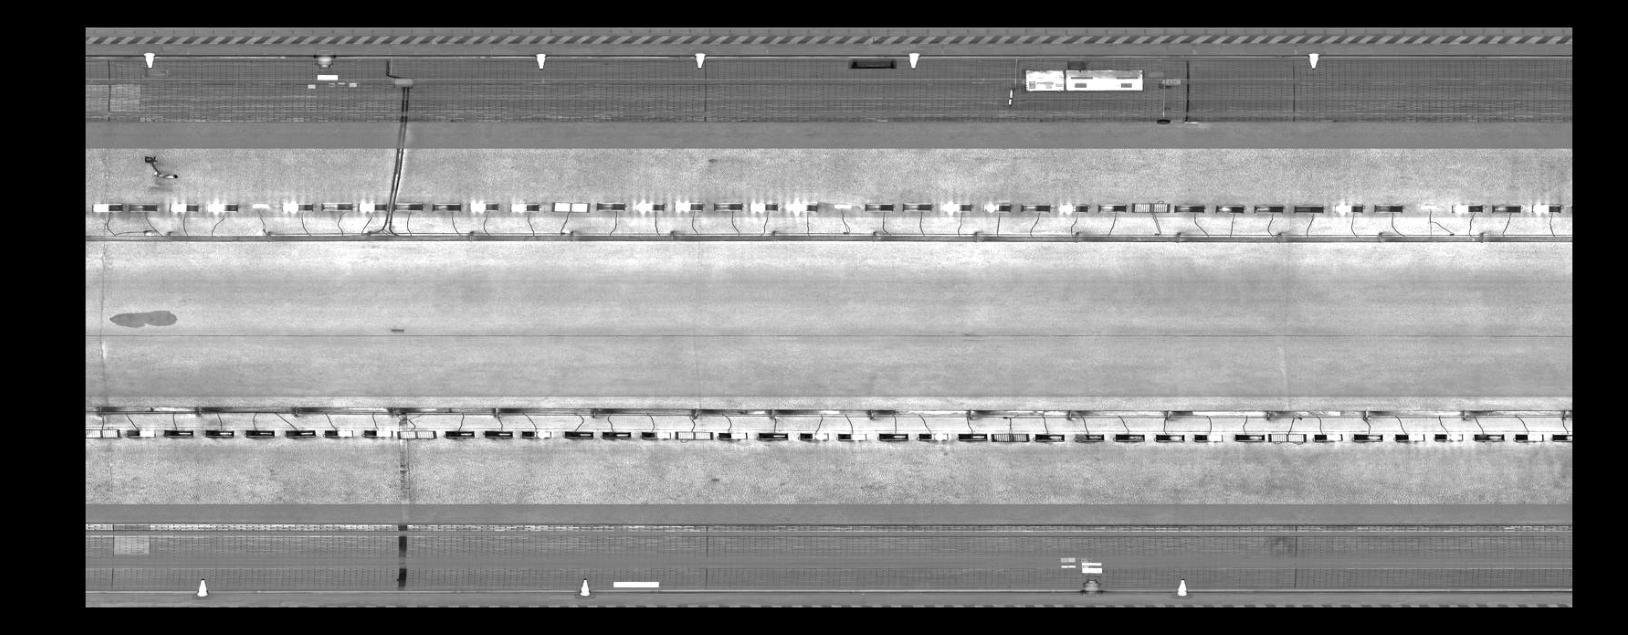light: (394, 425, 439, 442), (549, 198, 593, 215), (672, 427, 715, 443), (1265, 429, 1308, 444), (986, 429, 1032, 443), (1130, 199, 1172, 215), (785, 197, 821, 215), (86, 424, 123, 442), (504, 198, 541, 215), (465, 198, 501, 215), (633, 197, 669, 214), (1309, 429, 1347, 444), (913, 429, 952, 443), (755, 427, 791, 443), (1189, 429, 1225, 444), (796, 427, 832, 443), (1071, 430, 1107, 445), (1112, 429, 1147, 444), (1512, 430, 1549, 444), (1210, 201, 1249, 215), (203, 200, 240, 215), (355, 197, 391, 212), (715, 427, 752, 442), (1391, 429, 1428, 443), (1471, 430, 1508, 444), (317, 198, 355, 212), (1448, 200, 1487, 214), (1529, 200, 1563, 216), (594, 198, 629, 213), (710, 198, 745, 213), (745, 199, 781, 214), (1231, 430, 1267, 444), (1170, 201, 1208, 215), (1251, 201, 1288, 215), (121, 425, 159, 439), (441, 427, 479, 441), (480, 427, 517, 441), (518, 427, 555, 441), (561, 427, 598, 441), (833, 430, 870, 443), (1351, 430, 1385, 444), (240, 426, 279, 439), (1031, 431, 1070, 443), (1291, 201, 1327, 215), (1330, 201, 1366, 215), (1369, 201, 1406, 215), (875, 430, 912, 443), (1430, 430, 1466, 443), (159, 426, 197, 439), (940, 200, 975, 214), (1056, 201, 1091, 215), (282, 426, 318, 440), (599, 427, 634, 441), (955, 430, 991, 443), (1154, 430, 1186, 444), (1094, 200, 1129, 214), (1490, 201, 1524, 215), (322, 426, 356, 440), (639, 427, 673, 441), (280, 199, 317, 212), (672, 199, 705, 213), (861, 200, 896, 213), (123, 201, 160, 213), (165, 201, 202, 213), (900, 200, 934, 213), (202, 426, 237, 439), (360, 426, 395, 439), (980, 200, 1013, 213), (89, 201, 125, 213), (429, 200, 464, 212), (1017, 201, 1053, 213), (391, 201, 428, 212), (1550, 429, 1572, 442), (1417, 201, 1441, 212), (831, 201, 854, 210), (247, 200, 271, 208)
